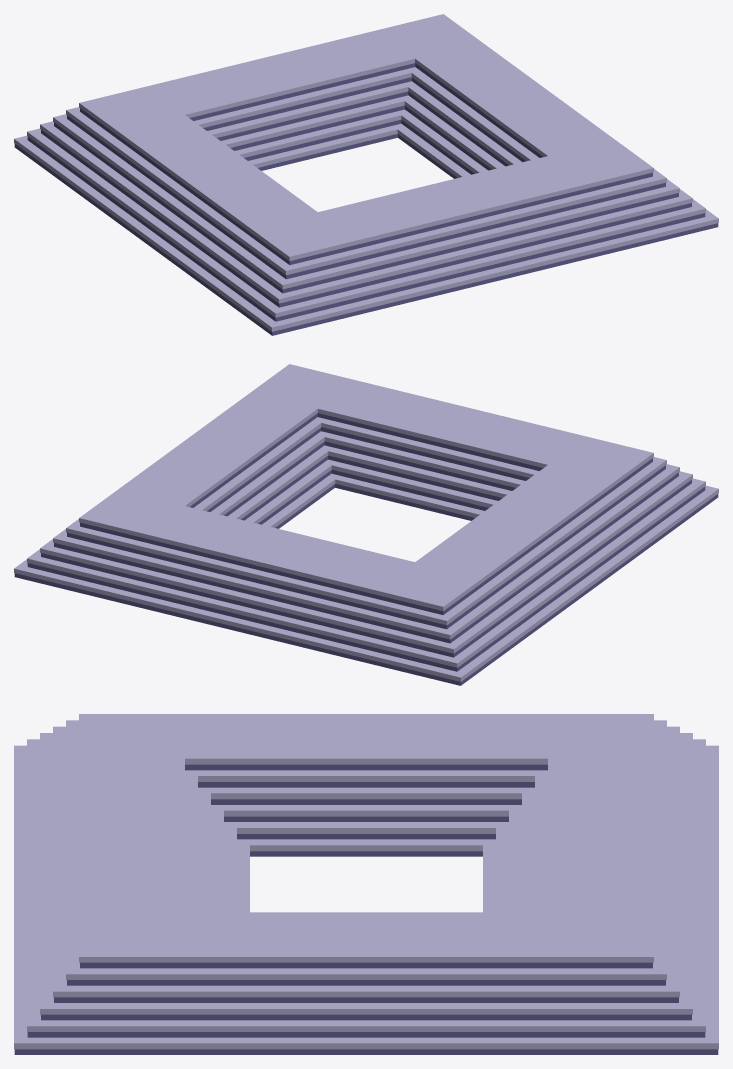
Rendered from ziggurat.fbx.
3 renders of one model, top to bottom at view 1: azimuth 30°, elevation 25°; view 2: azimuth 150°, elevation 25°; view 3: azimuth 270°, elevation 25°, orthographic. The views are drawn at different scales.
Parts seen in each view (by area): view 1: mergedBlocks; view 2: mergedBlocks; view 3: mergedBlocks.
Boxes of the visible parts, x1,y1,x2,y2 form: mergedBlocks: (14,14,718,335); mergedBlocks: (14,364,718,685); mergedBlocks: (14,714,718,1054).
Bounding box in the file's own units: 90.2 × 10 × 90.2.
